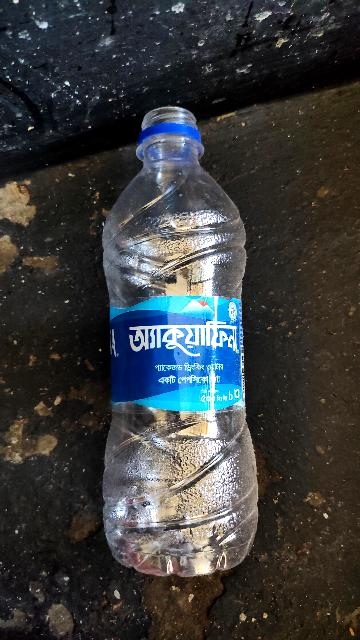bottle: (66, 98, 274, 570)
